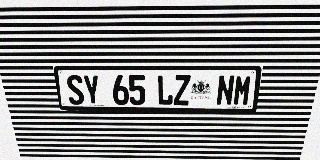5: (128, 75, 146, 105)
6: (111, 75, 129, 105)
L: (157, 75, 173, 105)
M: (232, 75, 253, 106)
N: (216, 75, 235, 106)
S: (65, 75, 85, 105)
Y: (82, 75, 101, 105)
Z: (174, 75, 191, 105)
